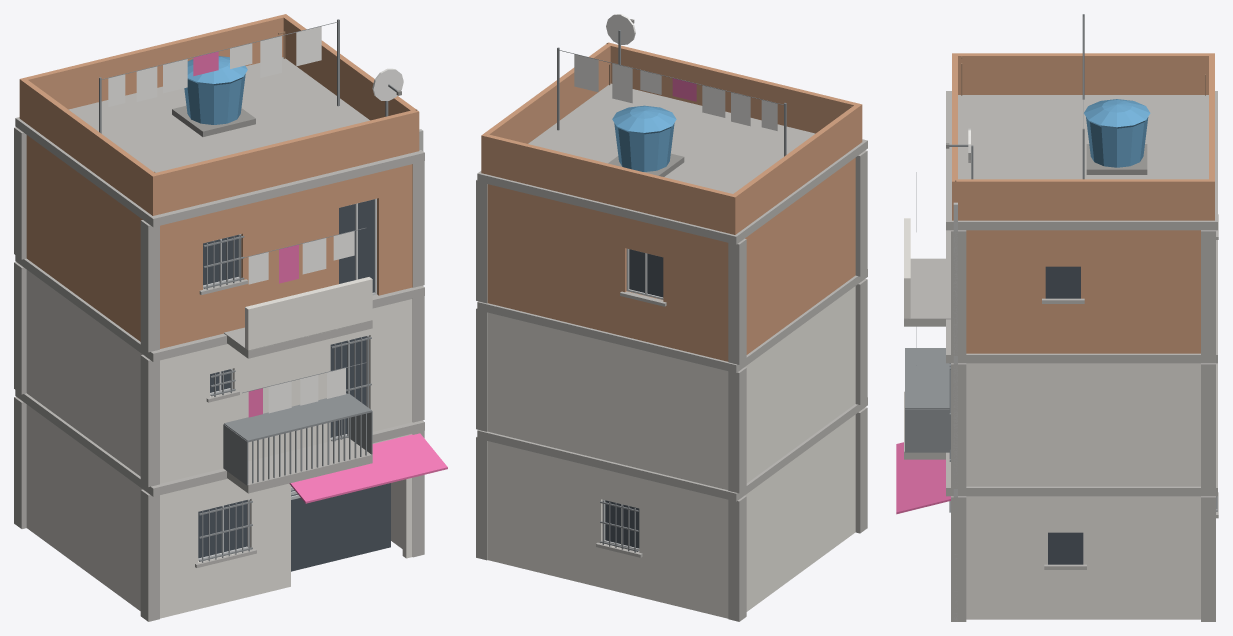
3 renders of one model, left to right at view 1: azimuth 30°, elevation 25°; view 2: azimuth 150°, elevation 25°; view 3: azimuth 270°, elevation 25°, orthographic. The views are drawn at different scales.
Parts seen in each view (by area): view 1: fv_h11; view 2: fv_h11; view 3: fv_h11.
Boxes of the visible parts, <box> form: fv_h11: <box>14,14,447,621</box>; fv_h11: <box>476,14,867,621</box>; fv_h11: <box>896,14,1218,621</box>.
Size of the model in its own units: 6.22 by 10.55 by 6.37.
